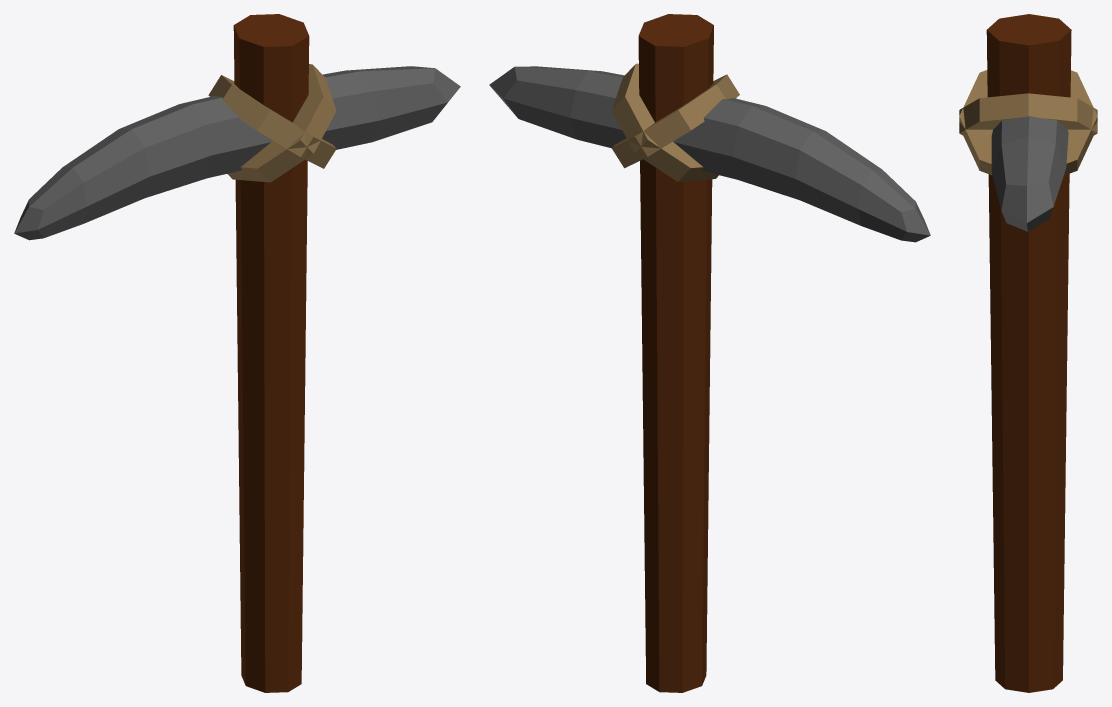
File: PickAxe.fbx
The picture shows the model from 3 angles, left to right: view 1: azimuth 30°, elevation 25°; view 2: azimuth 150°, elevation 25°; view 3: azimuth 270°, elevation 25°; orthographic projection.
Parts seen in each view (by area): view 1: Cylinder, Cube.001, Cylinder.002, Cylinder.001; view 2: Cylinder, Cube.001, Cylinder.002, Cylinder.001; view 3: Cylinder, Cube.001, Cylinder.002, Cylinder.001.
Boxes of the visible parts, x1,y1,x2,y2 form: Cylinder: (233,14,309,692); Cube.001: (14,66,460,240); Cylinder.002: (227,64,336,182); Cylinder.001: (208,75,336,168); Cylinder: (638,14,713,692); Cube.001: (489,66,930,242); Cylinder.002: (612,63,718,181); Cylinder.001: (611,74,739,168); Cylinder: (986,14,1071,692); Cube.001: (991,116,1068,231); Cylinder.002: (959,93,1097,135); Cylinder.001: (959,70,1097,175).
Bounding box in the file's own units: 177 × 247 × 47.54.
